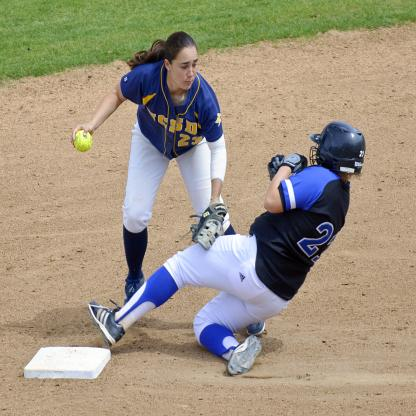Helmet: (309, 127, 369, 170)
